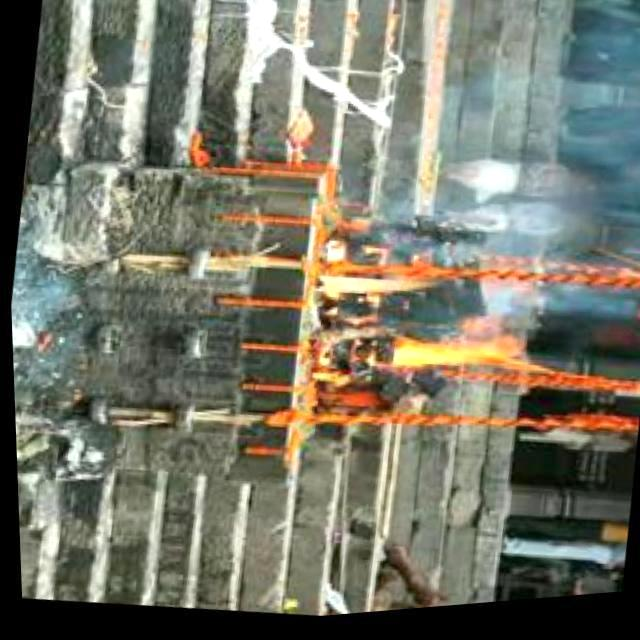fire: (292, 230, 556, 414)
